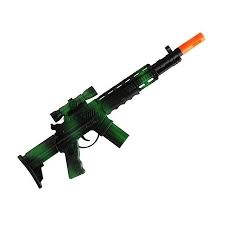Arma Falsa: (17, 31, 208, 189)
